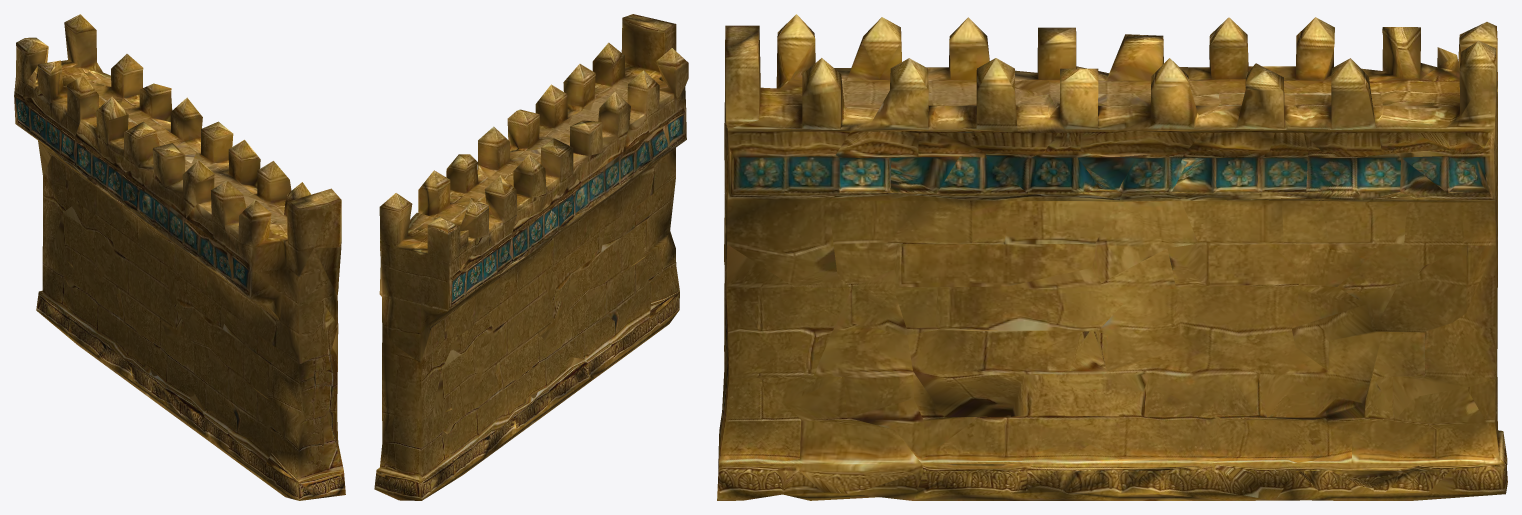
File: castle_wall_gold.glb
3 views of the same model, side by side, from view 1: azimuth 30°, elevation 25°; view 2: azimuth 150°, elevation 25°; view 3: azimuth 270°, elevation 25° (orthographic). The views are drawn at different scales.
Parts seen in each view (by area): view 1: tripo_node_62d550bf-6d5e-4ff5-a318-d668af69aba0; view 2: tripo_node_62d550bf-6d5e-4ff5-a318-d668af69aba0; view 3: tripo_node_62d550bf-6d5e-4ff5-a318-d668af69aba0.
Part boxes in pixels (<box>): tripo_node_62d550bf-6d5e-4ff5-a318-d668af69aba0: <box>14,14,345,500</box>; tripo_node_62d550bf-6d5e-4ff5-a318-d668af69aba0: <box>374,14,688,500</box>; tripo_node_62d550bf-6d5e-4ff5-a318-d668af69aba0: <box>717,14,1507,500</box>.
Bounding box in the file's own units: 0.1651 × 0.6132 × 0.9747.
1 material, 1 textured.
